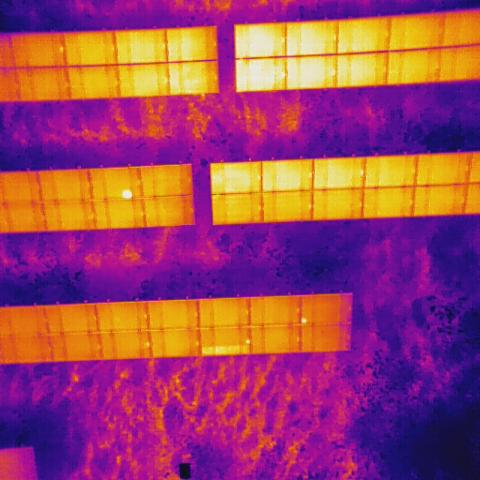fault: (199, 347, 251, 357), (120, 190, 134, 201), (245, 337, 251, 345), (301, 318, 307, 325)
